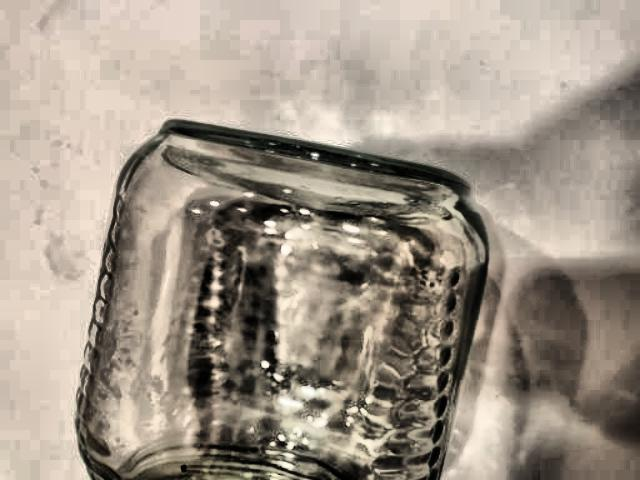Bottles: (49, 117, 499, 480)
